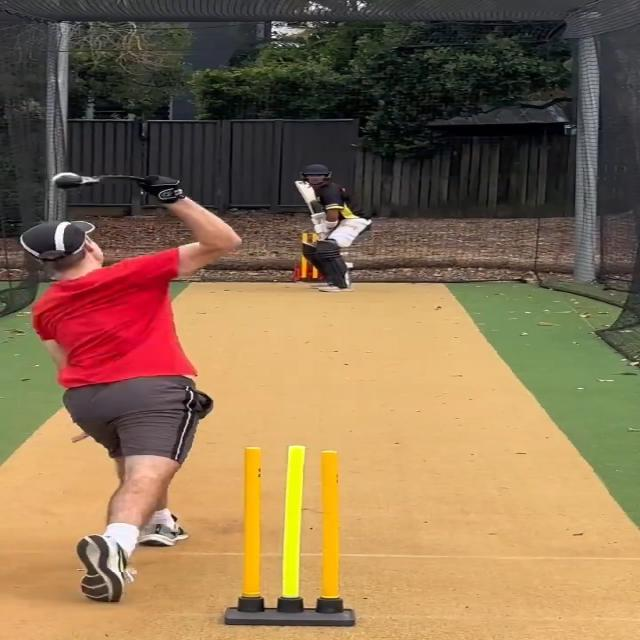stump: (222, 448, 357, 627)
